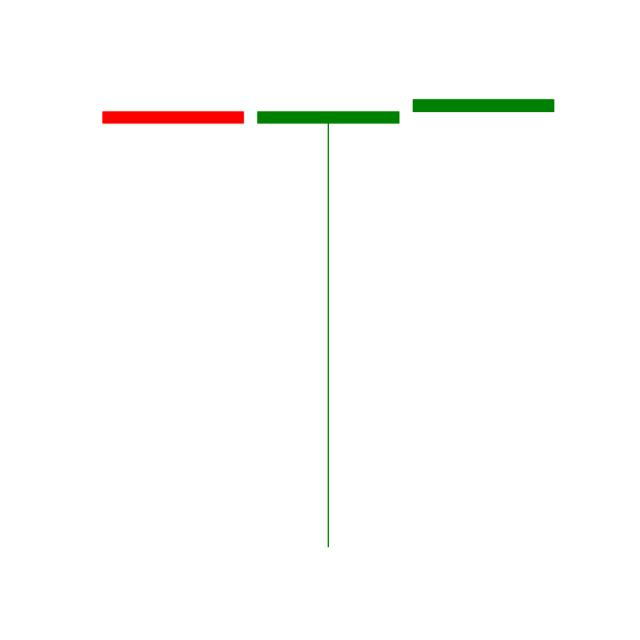Dragonfly Doji: (249, 107, 406, 552)
Four price doji: (410, 98, 557, 114), (100, 110, 246, 124)
